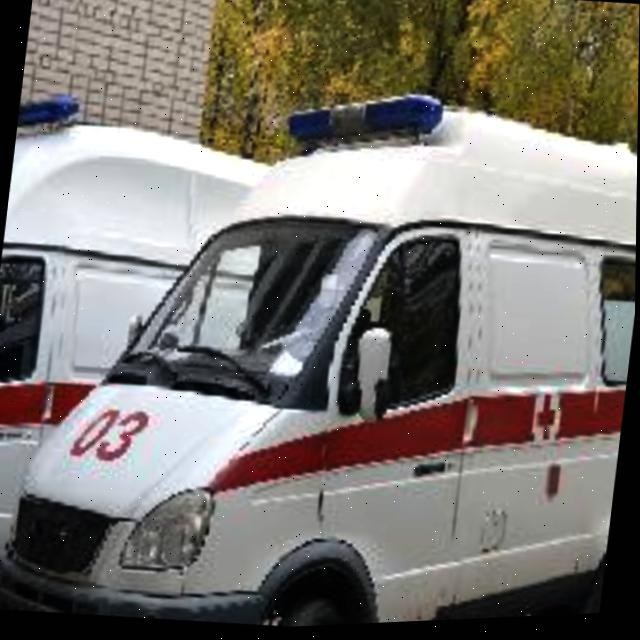emergency: (0, 47, 631, 640)
